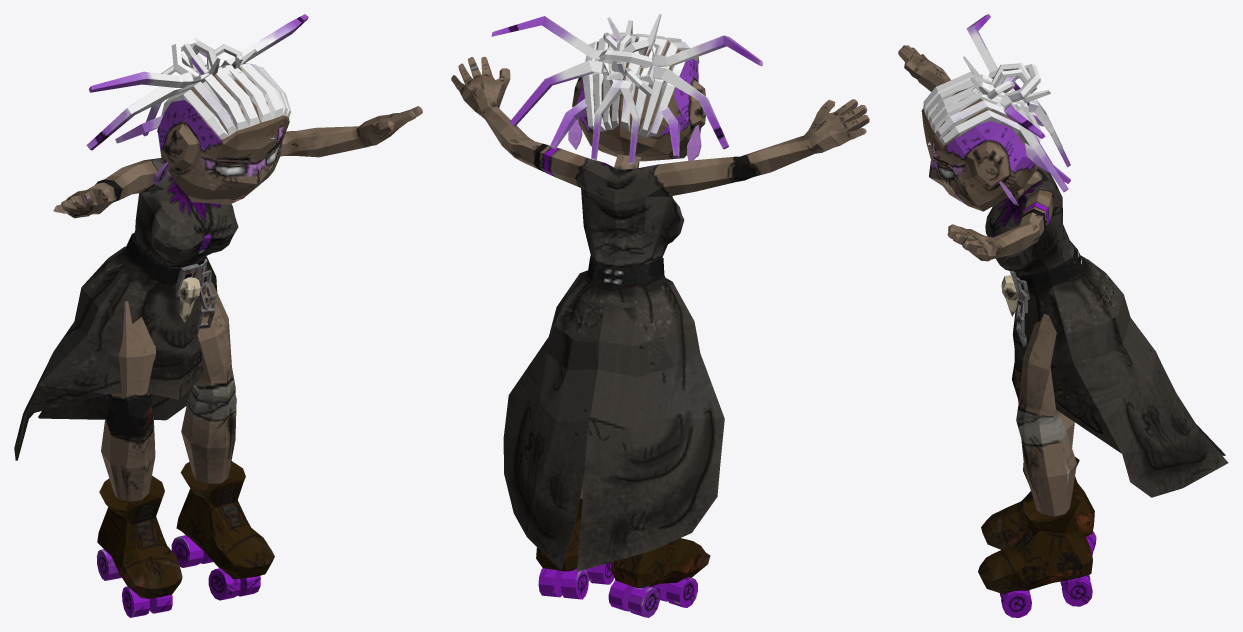
File: bruja_000184.obj
3 renders of one model, left to right at view 1: azimuth 30°, elevation 25°; view 2: azimuth 150°, elevation 25°; view 3: azimuth 270°, elevation 25°, orthographic. The views are drawn at different scales.
Visible parts, largest first — view 1: Bruja_Plane.001; view 2: Bruja_Plane.001; view 3: Bruja_Plane.001.
Boxes of the visible parts, left/top/right/bottom form: Bruja_Plane.001: left=14, top=14, right=422, bottom=617; Bruja_Plane.001: left=451, top=14, right=869, bottom=617; Bruja_Plane.001: left=898, top=14, right=1228, bottom=617.
Size of the model in its own units: 11.66 by 16.18 by 9.07.
